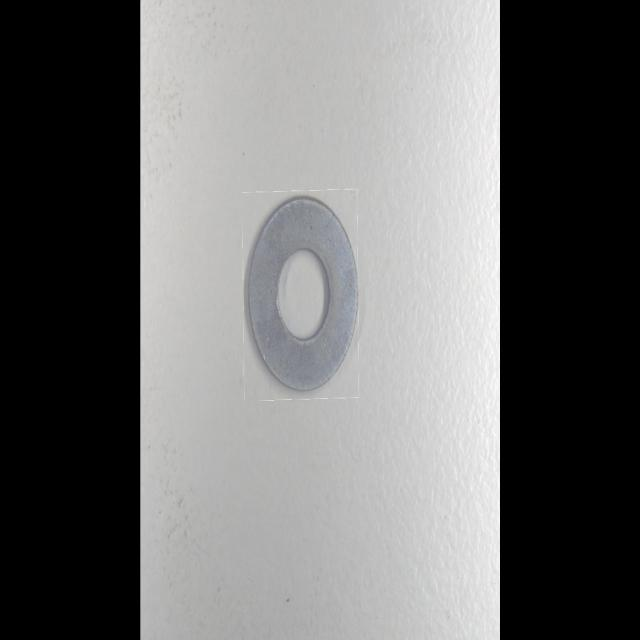washer: (243, 191, 358, 399)
